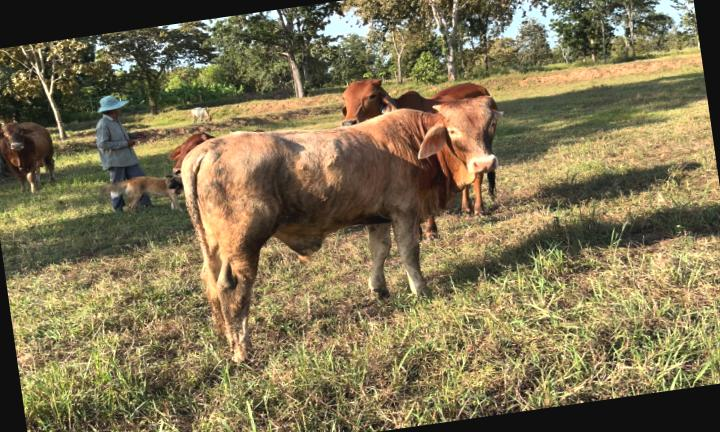Charolais: (181, 96, 502, 362)
